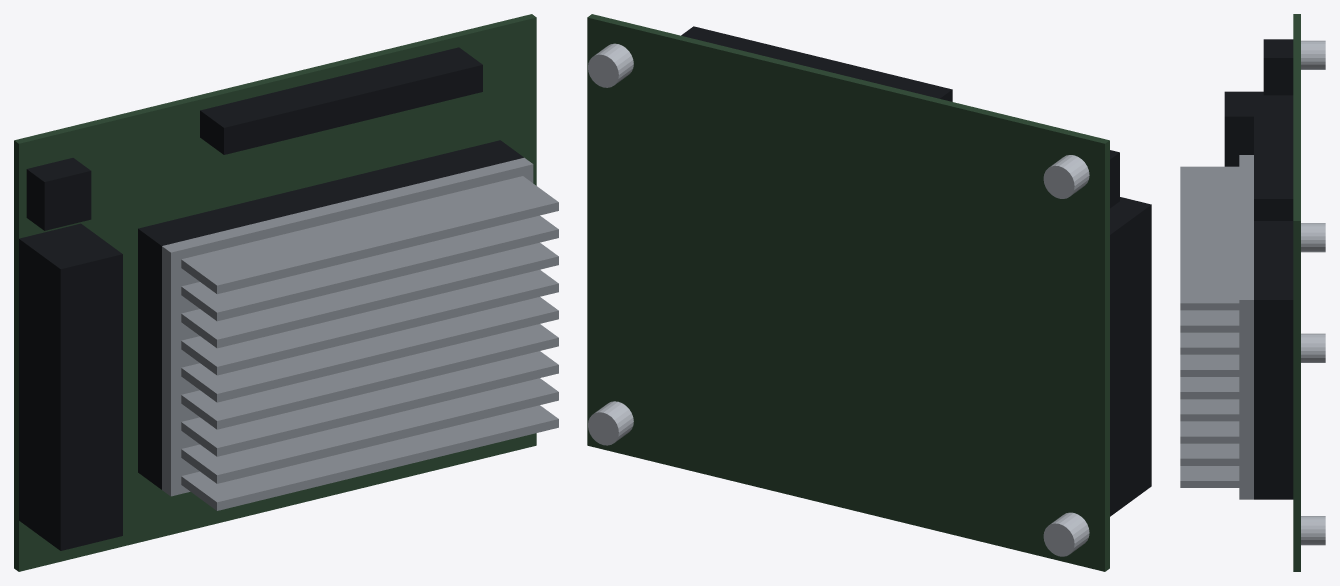
The model's file is roboracer_jetson.glb.
The picture shows the model from 3 angles, left to right: view 1: azimuth 30°, elevation 25°; view 2: azimuth 150°, elevation 25°; view 3: azimuth 270°, elevation 25°; orthographic projection. The views are drawn at different scales.
Visible parts, largest first — view 1: jetson_heatsink, jetson_ports, jetson_pcb; view 2: jetson_pcb, jetson_ports, jetson_standoff; view 3: jetson_heatsink, jetson_ports, jetson_pcb, jetson_standoff.
Boxes of the visible parts, box(x1,y1,x2,y2) form: jetson_heatsink: box(162, 157, 558, 510); jetson_ports: box(19, 47, 523, 550); jetson_pcb: box(14, 14, 536, 571); jetson_pcb: box(587, 14, 1109, 571); jetson_ports: box(681, 26, 1151, 516); jetson_standoff: box(588, 43, 1089, 556); jetson_heatsink: box(1180, 155, 1253, 499); jetson_ports: box(1224, 39, 1293, 499); jetson_pcb: box(1293, 14, 1300, 571); jetson_standoff: box(1301, 40, 1325, 545).
Size of the model in its own units: 0.1 by 0.079 by 0.0296.
